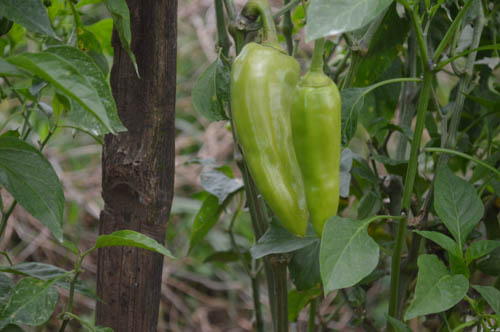ChiliPepper: (233, 42, 306, 243), (288, 84, 345, 236)
